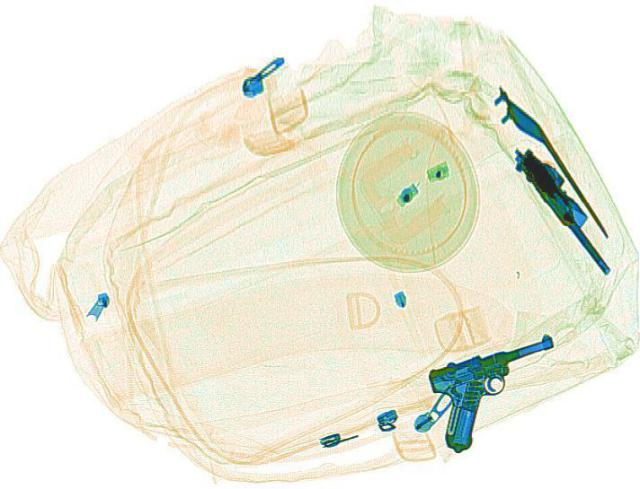Gun: (404, 332, 596, 451), (502, 140, 632, 275)
